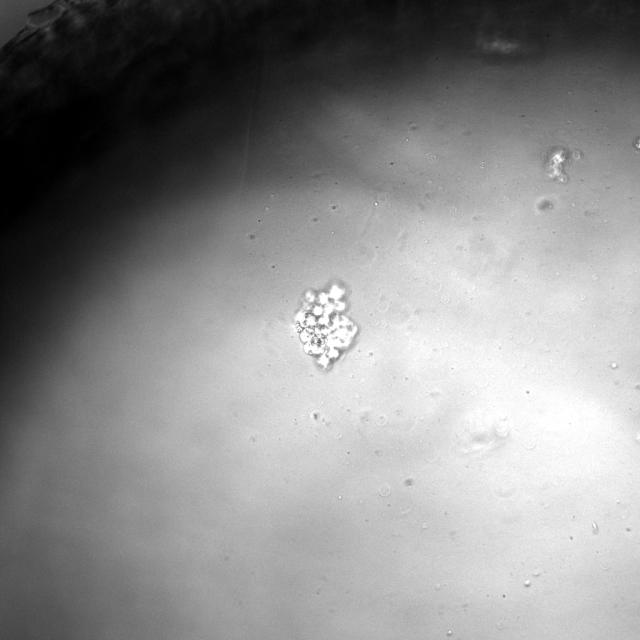organoid: (293, 282, 358, 369), (545, 145, 571, 182)
